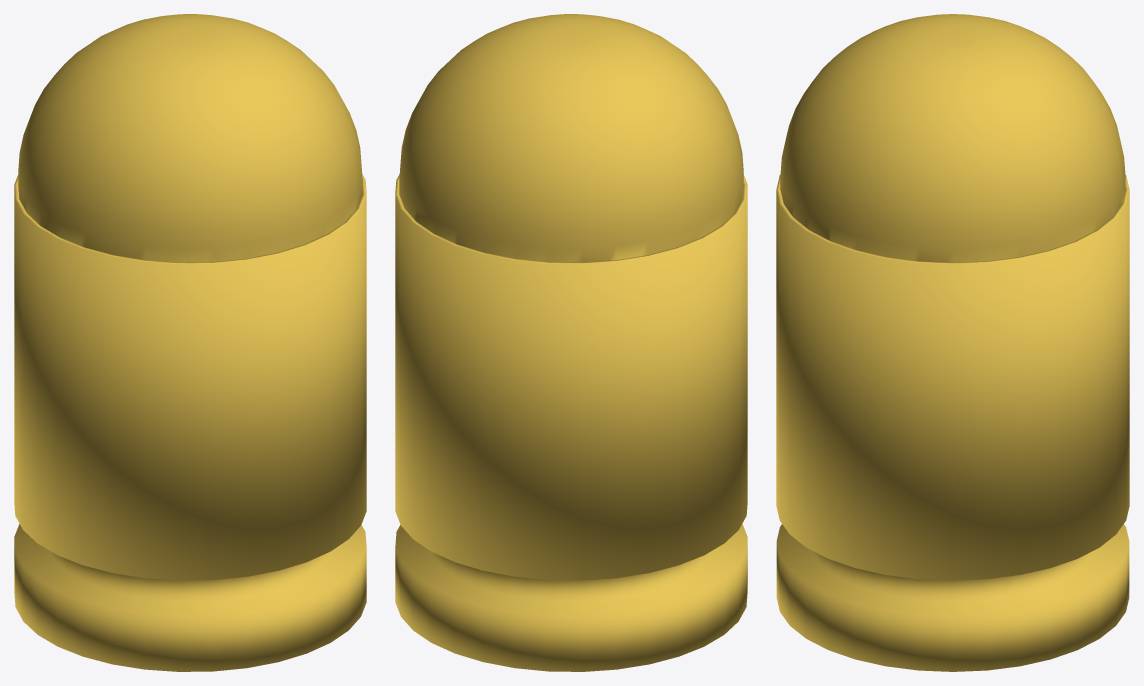
The model's file is  barrett.glb.
3 views of the same model, side by side, from view 1: azimuth 30°, elevation 25°; view 2: azimuth 150°, elevation 25°; view 3: azimuth 270°, elevation 25° (orthographic).
Parts seen in each view (by area): view 1: 円柱; view 2: 円柱; view 3: 円柱.
Boxes of the visible parts, left/top/right/bottom form: 円柱: left=14, top=14, right=366, bottom=671; 円柱: left=395, top=14, right=747, bottom=671; 円柱: left=776, top=14, right=1129, bottom=671.
Bounding box in the file's own units: 2 × 3.51 × 2.
